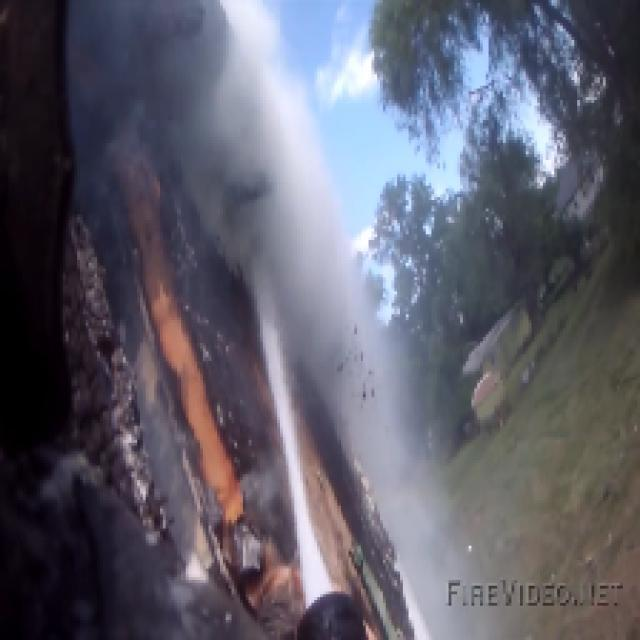Smoke: (57, 0, 463, 640)
